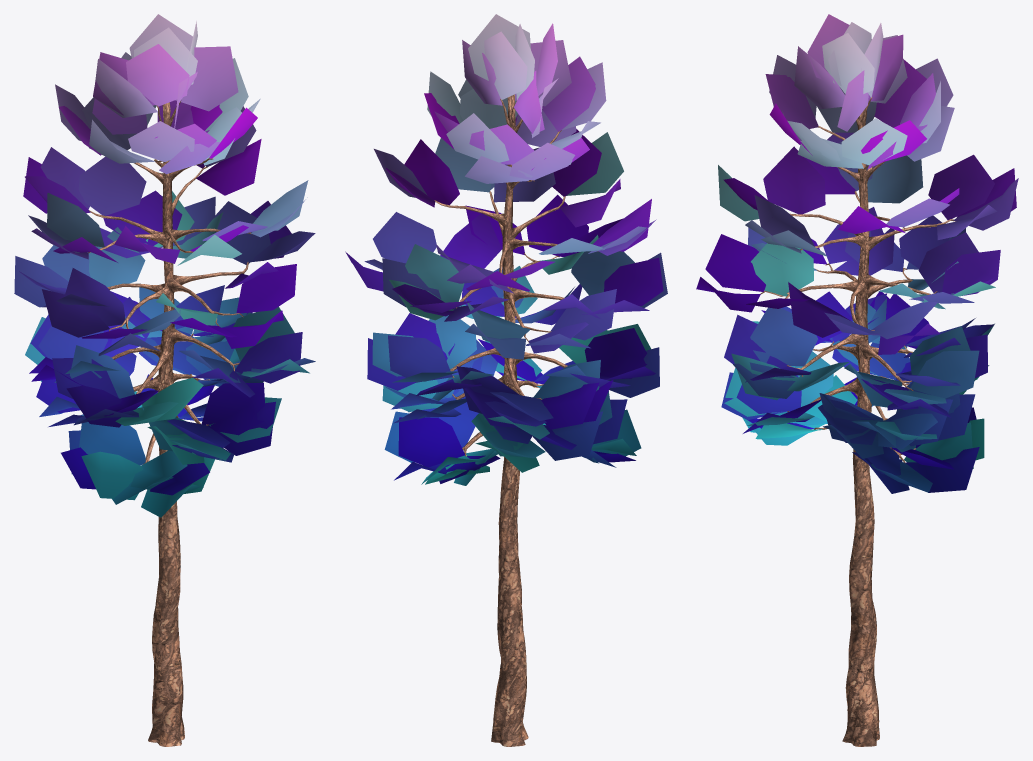
Rendered from Pine_D.fbx.
3 renders of one model, left to right at view 1: azimuth 30°, elevation 25°; view 2: azimuth 150°, elevation 25°; view 3: azimuth 270°, elevation 25°, orthographic.
Parts seen in each view (by area): view 1: Pine_D_LOD0; view 2: Pine_D_LOD0; view 3: Pine_D_LOD0.
Part boxes in pixels (<box>): Pine_D_LOD0: <box>14,14,315,746</box>; Pine_D_LOD0: <box>345,14,667,746</box>; Pine_D_LOD0: <box>696,14,1018,746</box>.
Size of what is drawn, in the model's own units: 9.04 by 22 by 8.97.
